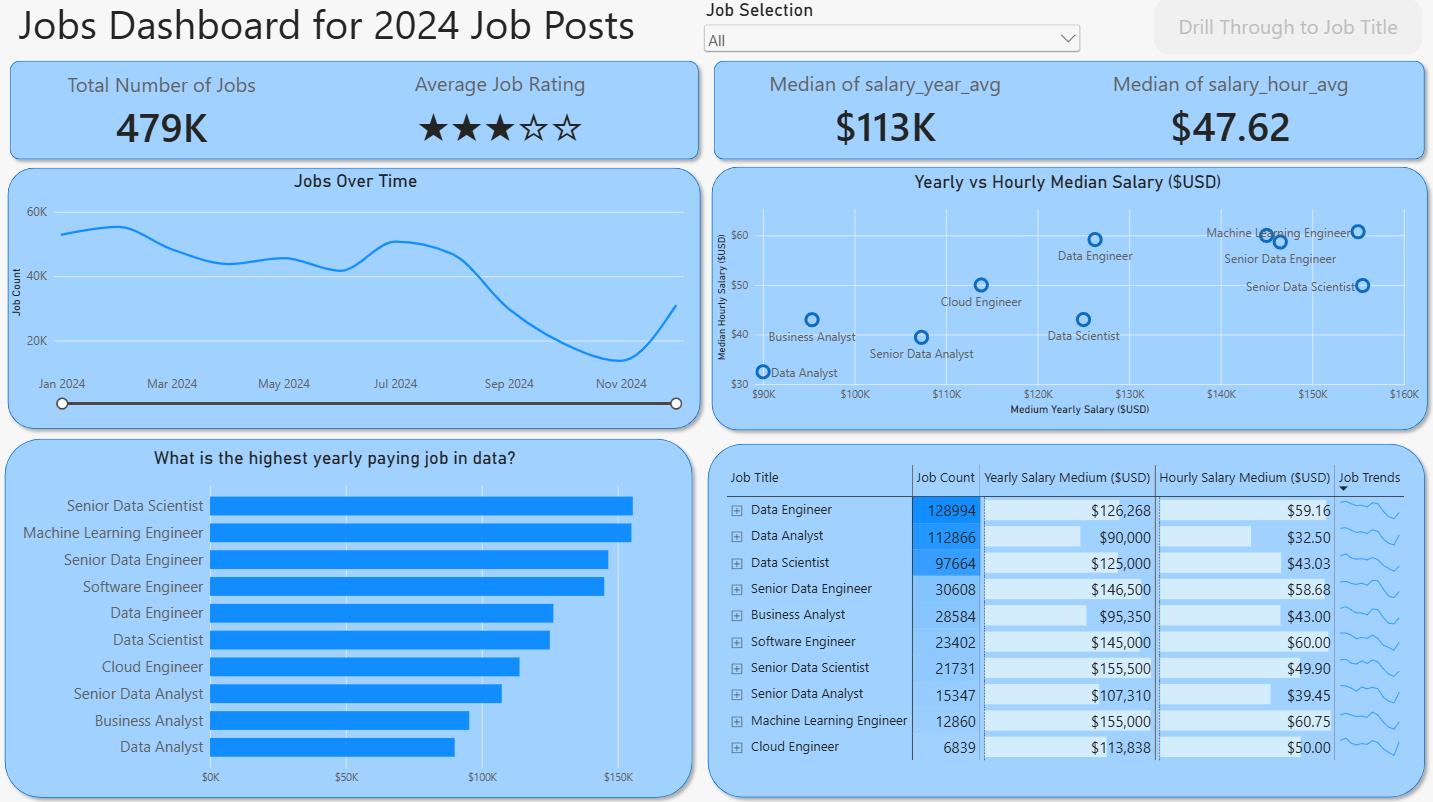

The page's visual inventory and layout, read from the dashboard file:
{"tool":"powerbi","page":{"name":"Data Jobs Dashboard","canvas":[1920,1080],"ordinal":0},"visuals":[{"type":"group","id":"g1","title":"Group 1","box":[0,78.9,1910.6,997.9],"z":0},{"type":"shape","box":[7.2,78.9,934.3,149.1],"z":0,"group":"g1"},{"type":"textbox","box":[10.1,0,853.7,79],"z":1000},{"type":"shape","box":[942.8,79.1,963.4,149.1],"z":1000,"group":"g1"},{"type":"slicer","fields":{"Values":["job_postings_flat.job_title_short"]},"box":[934.3,5.1,510.9,73.7],"z":2000},{"type":"shape","box":[934.7,588.3,972,488.6],"z":2000,"group":"g1"},{"type":"cardVisual","fields":{"Data":["CountNonNull(job_postings_flat.job_title_short)"]},"box":[12,99.4,411.4,111.4],"z":3000},{"type":"shape","box":[0,581.4,932.6,495.4],"z":3000,"group":"g1"},{"type":"cardVisual","fields":{"Data":["job_postings_flat.Job Rating"]},"box":[423.4,99.4,490.3,109.7],"z":4000},{"type":"shape","box":[3.4,221.4,939.4,365.1],"z":4000,"group":"g1"},{"type":"cardVisual","fields":{"Data":["Median(job_postings_flat.salary_year_avg)"]},"box":[954.9,99.4,450.9,109.7],"z":5000},{"type":"shape","box":[940.4,219.7,970.3,368.6],"z":5000,"group":"g1"},{"type":"cardVisual","fields":{"Data":["Median(job_postings_flat.salary_hour_avg)"]},"box":[1400.6,99.4,478.3,109.7],"z":6000},{"type":"lineChart","title":"Jobs Over Time","fields":{"Category":["job_postings_flat.job_posted_date.Variation.Date Hierarchy.Year","job_postings_flat.job_posted_date.Variation.Date Hierarchy.Quarter","job_postings_flat.job_posted_date.Variation.Date Hierarchy.Month","job_postings_flat.job_posted_date.Variation.Date Hierarchy.Day"],"Y":["CountNonNull(job_postings_flat.job_title_short)"]},"box":[0,219.4,951.4,346.3],"z":7000},{"type":"scatterChart","title":"Yearly vs Hourly Median Salary ($USD)","fields":{"Series":["job_postings_flat.job_title_short"],"X":["Median(job_postings_flat.salary_year_avg)"],"Y":["Median(job_postings_flat.salary_hour_avg)"]},"box":[939.4,221.1,966.9,354.9],"z":8000},{"type":"clusteredBarChart","title":"What is the highest yearly paying job in data?","fields":{"Category":["job_postings_flat.job_title_short"],"Y":["Median(job_postings_flat.salary_year_avg)"]},"box":[0,588,896.6,483.4],"z":9000},{"type":"pivotTable","fields":{"Rows":["job_postings_flat.job_title_short","job_postings_flat.job_posted_date.Variation.Date Hierarchy.Quarter"],"Values":["CountNonNull(job_postings_flat.job_title_short)","Median(job_postings_flat.salary_year_avg)","Median(job_postings_flat.salary_hour_avg)","SparklineData(CountNonNull(job_postings_flat.job_title_short)_[job_postings_flat.job_posted_date.Variation.Date Hierarch"]},"box":[953.1,610.3,937.7,438.9],"z":10000},{"type":"actionButton","box":[1537.7,5.1,356.6,73.7],"z":11000}]}

Visuals, with their boxes in screenshot pixels (x1, y1, x2, y2), scaled from the page's 1920x1080 canvas onto the 1433x802 screenshot:
"Group 1" group: <region>0, 59, 1426, 800</region>
shape: <region>5, 59, 703, 169</region>
textbox: <region>8, 0, 645, 59</region>
shape: <region>704, 59, 1423, 169</region>
slicer - job_postings_flat.job_title_short: <region>697, 4, 1079, 59</region>
shape: <region>698, 437, 1423, 800</region>
cardVisual - CountNonNull(job_postings_flat.job_title_short): <region>9, 74, 316, 157</region>
shape: <region>0, 432, 696, 800</region>
cardVisual - job_postings_flat.Job Rating: <region>316, 74, 682, 155</region>
shape: <region>3, 164, 704, 436</region>
cardVisual - Median(job_postings_flat.salary_year_avg): <region>713, 74, 1049, 155</region>
shape: <region>702, 163, 1426, 437</region>
cardVisual - Median(job_postings_flat.salary_hour_avg): <region>1045, 74, 1402, 155</region>
"Jobs Over Time" lineChart: <region>0, 163, 710, 420</region>
"Yearly vs Hourly Median Salary ($USD)" scatterChart: <region>701, 164, 1423, 428</region>
"What is the highest yearly paying job in data?" clusteredBarChart: <region>0, 437, 669, 796</region>
pivotTable - job_postings_flat.job_title_short x job_postings_flat.job_posted_date.Variation.Date Hierarchy.Quarter: <region>711, 453, 1411, 779</region>
actionButton: <region>1148, 4, 1414, 59</region>
